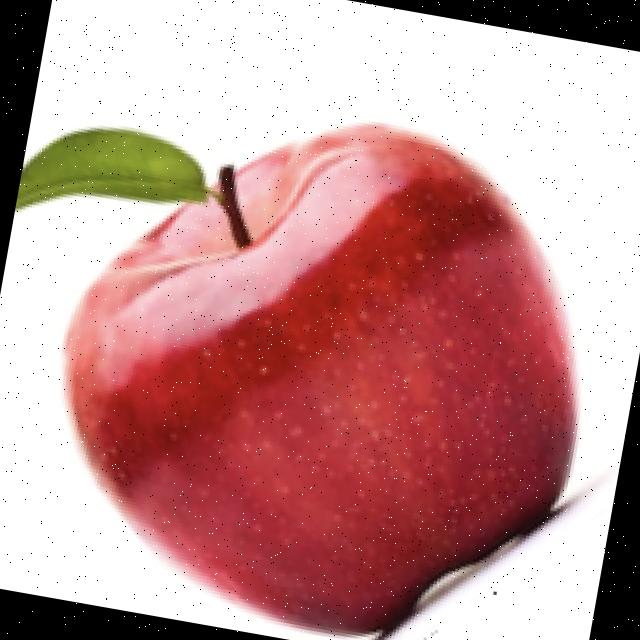apple: (15, 116, 611, 640)
